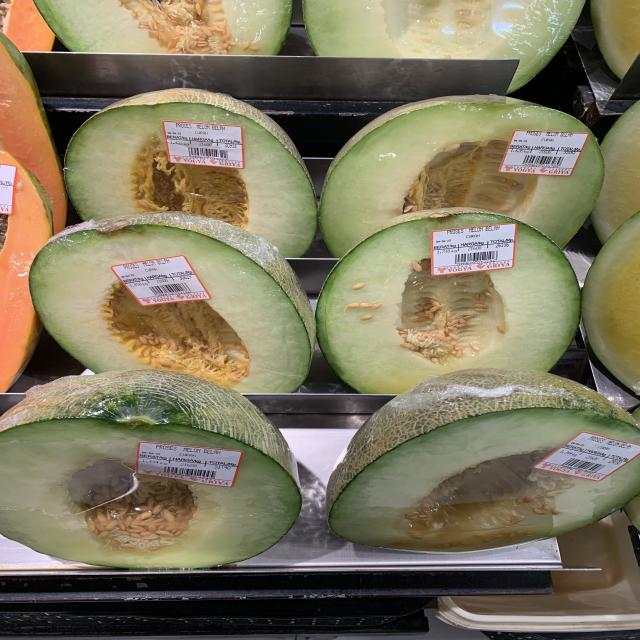melon: (0, 375, 306, 565), (30, 216, 318, 375), (318, 210, 583, 370), (323, 376, 540, 554), (316, 90, 610, 214), (63, 86, 314, 219)
